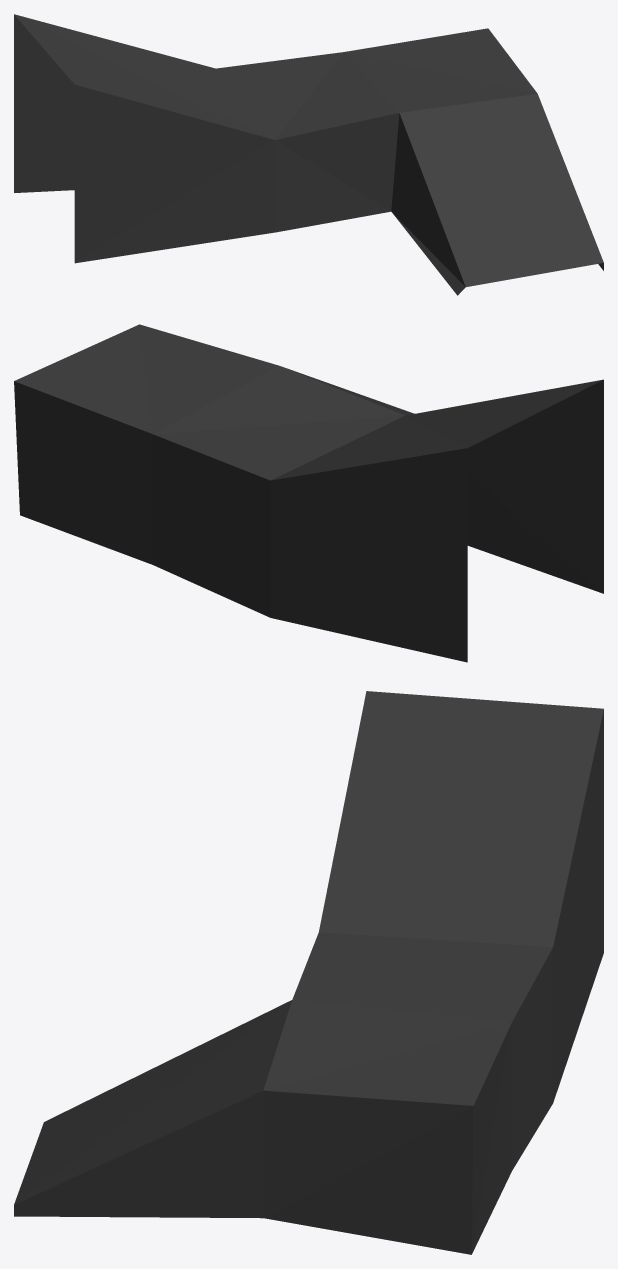
File: Cave_14B_1_LOD_2.fbx
The picture shows the model from 3 angles, top to bottom: view 1: azimuth 30°, elevation 25°; view 2: azimuth 150°, elevation 25°; view 3: azimuth 270°, elevation 25°; orthographic projection. The views are drawn at different scales.
Parts seen in each view (by area): view 1: pCube760; view 2: pCube760; view 3: pCube760.
Part boxes in pixels (left/top/right/bottom): pCube760: left=14, top=14, right=603, bottom=295; pCube760: left=14, top=324, right=603, bottom=662; pCube760: left=14, top=691, right=603, bottom=1254.
Size of the model in its own units: 23.66 by 9.98 by 19.57.
